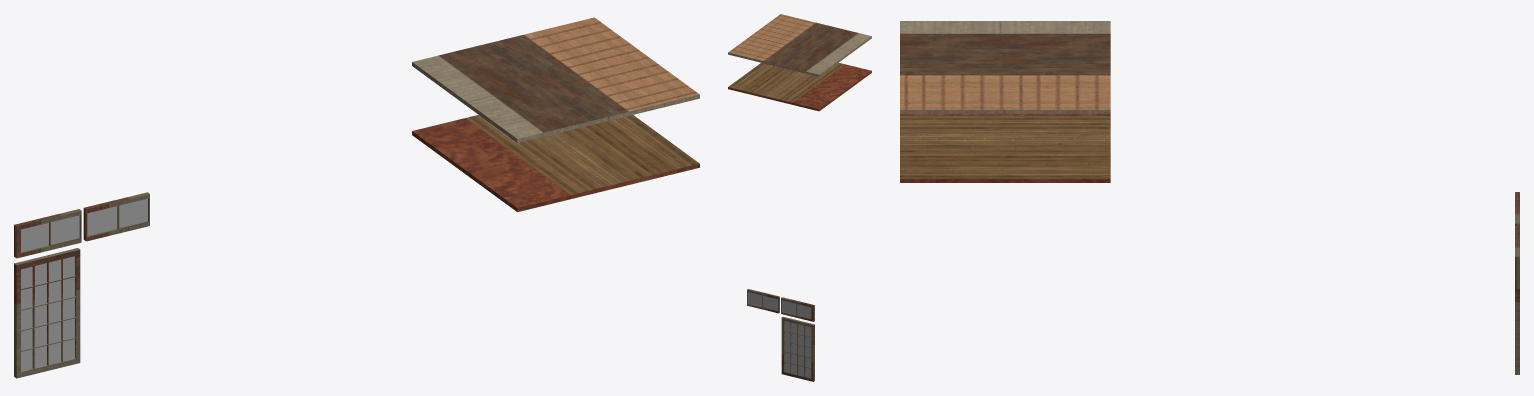
Rendered from assets1.fbx.
3 renders of one model, left to right at view 1: azimuth 30°, elevation 25°; view 2: azimuth 150°, elevation 25°; view 3: azimuth 270°, elevation 25°, orthographic. The views are drawn at different scales.
Visible parts, largest first — view 1: Ceiling_17, Ceiling_16, pCube22, pCube21, pCube26, pCube25, pCube27, pCube24; view 2: Ceiling_17, Ceiling_16, pCube22, pCube21, pCube26, pCube25, pCube27, pCube24; view 3: Ceiling_17, Ceiling_16.
Boxes of the visible parts, box(x1,y1,x2,y2) form: Ceiling_17: box(412, 17, 699, 142); Ceiling_16: box(412, 115, 699, 212); pCube22: box(21, 256, 75, 371); pCube21: box(14, 248, 80, 378); pCube26: box(87, 198, 147, 235); pCube25: box(21, 215, 79, 252); pCube27: box(14, 209, 81, 258); pCube24: box(83, 192, 149, 241); Ceiling_17: box(728, 14, 871, 76); Ceiling_16: box(728, 62, 871, 111); pCube22: box(784, 321, 811, 378); pCube21: box(781, 316, 814, 381); pCube26: box(748, 292, 778, 310); pCube25: box(782, 300, 811, 318); pCube27: box(781, 297, 814, 321); pCube24: box(747, 289, 779, 313); Ceiling_17: box(900, 21, 1110, 113); Ceiling_16: box(900, 114, 1110, 182).
Size of the model in its own units: 618 by 656 by 883.
